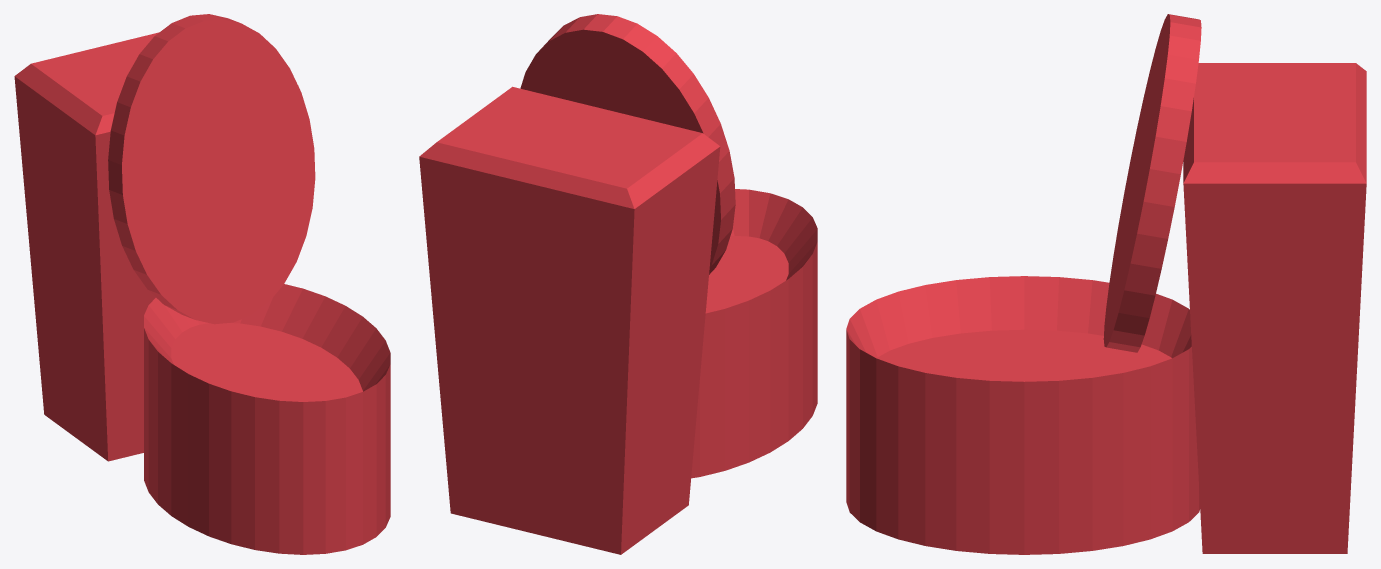
The model's file is ToiletUV.fbx.
The picture shows the model from 3 angles, left to right: view 1: azimuth 30°, elevation 25°; view 2: azimuth 150°, elevation 25°; view 3: azimuth 270°, elevation 25°; orthographic projection. The views are drawn at different scales.
Parts seen in each view (by area): view 1: ToiletCistern; view 2: ToiletCistern; view 3: ToiletCistern.
Boxes of the visible parts, x1,y1,x2,y2 form: ToiletCistern: (14,14,390,554); ToiletCistern: (419,14,817,554); ToiletCistern: (846,14,1366,554).
Size of the model in its own units: 116 by 235 by 227.
